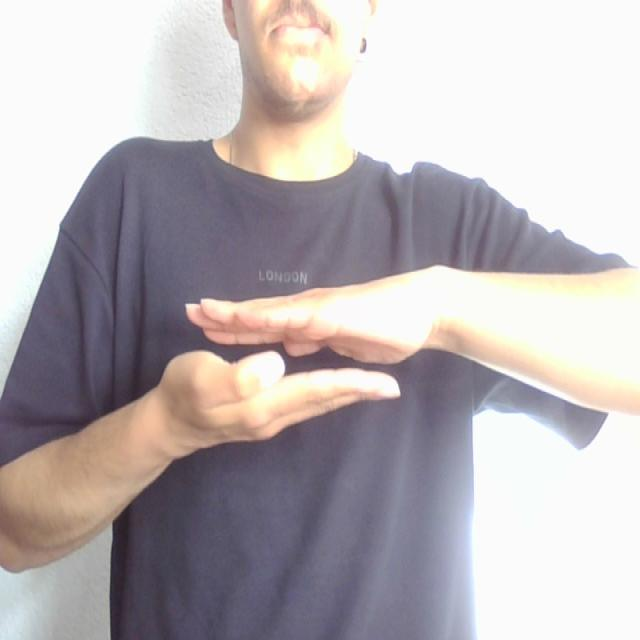Arkadas: (50, 263, 569, 457)
